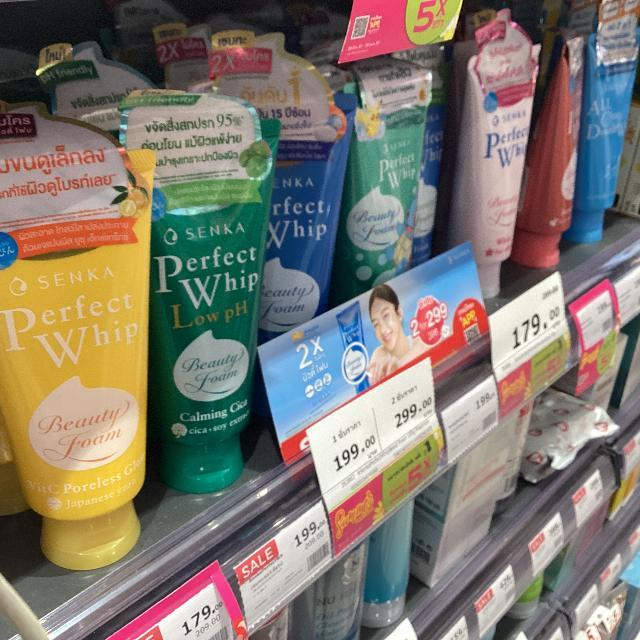Squeeze Tube: (0, 53, 398, 566)
